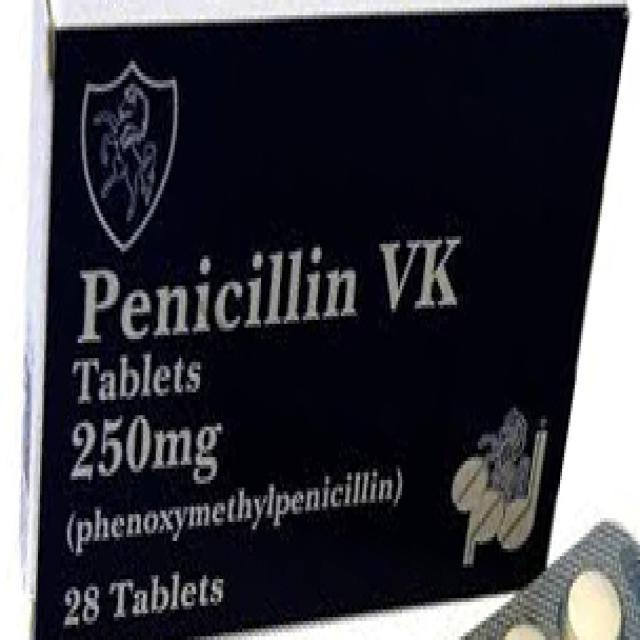drug-name: (71, 239, 365, 349)
